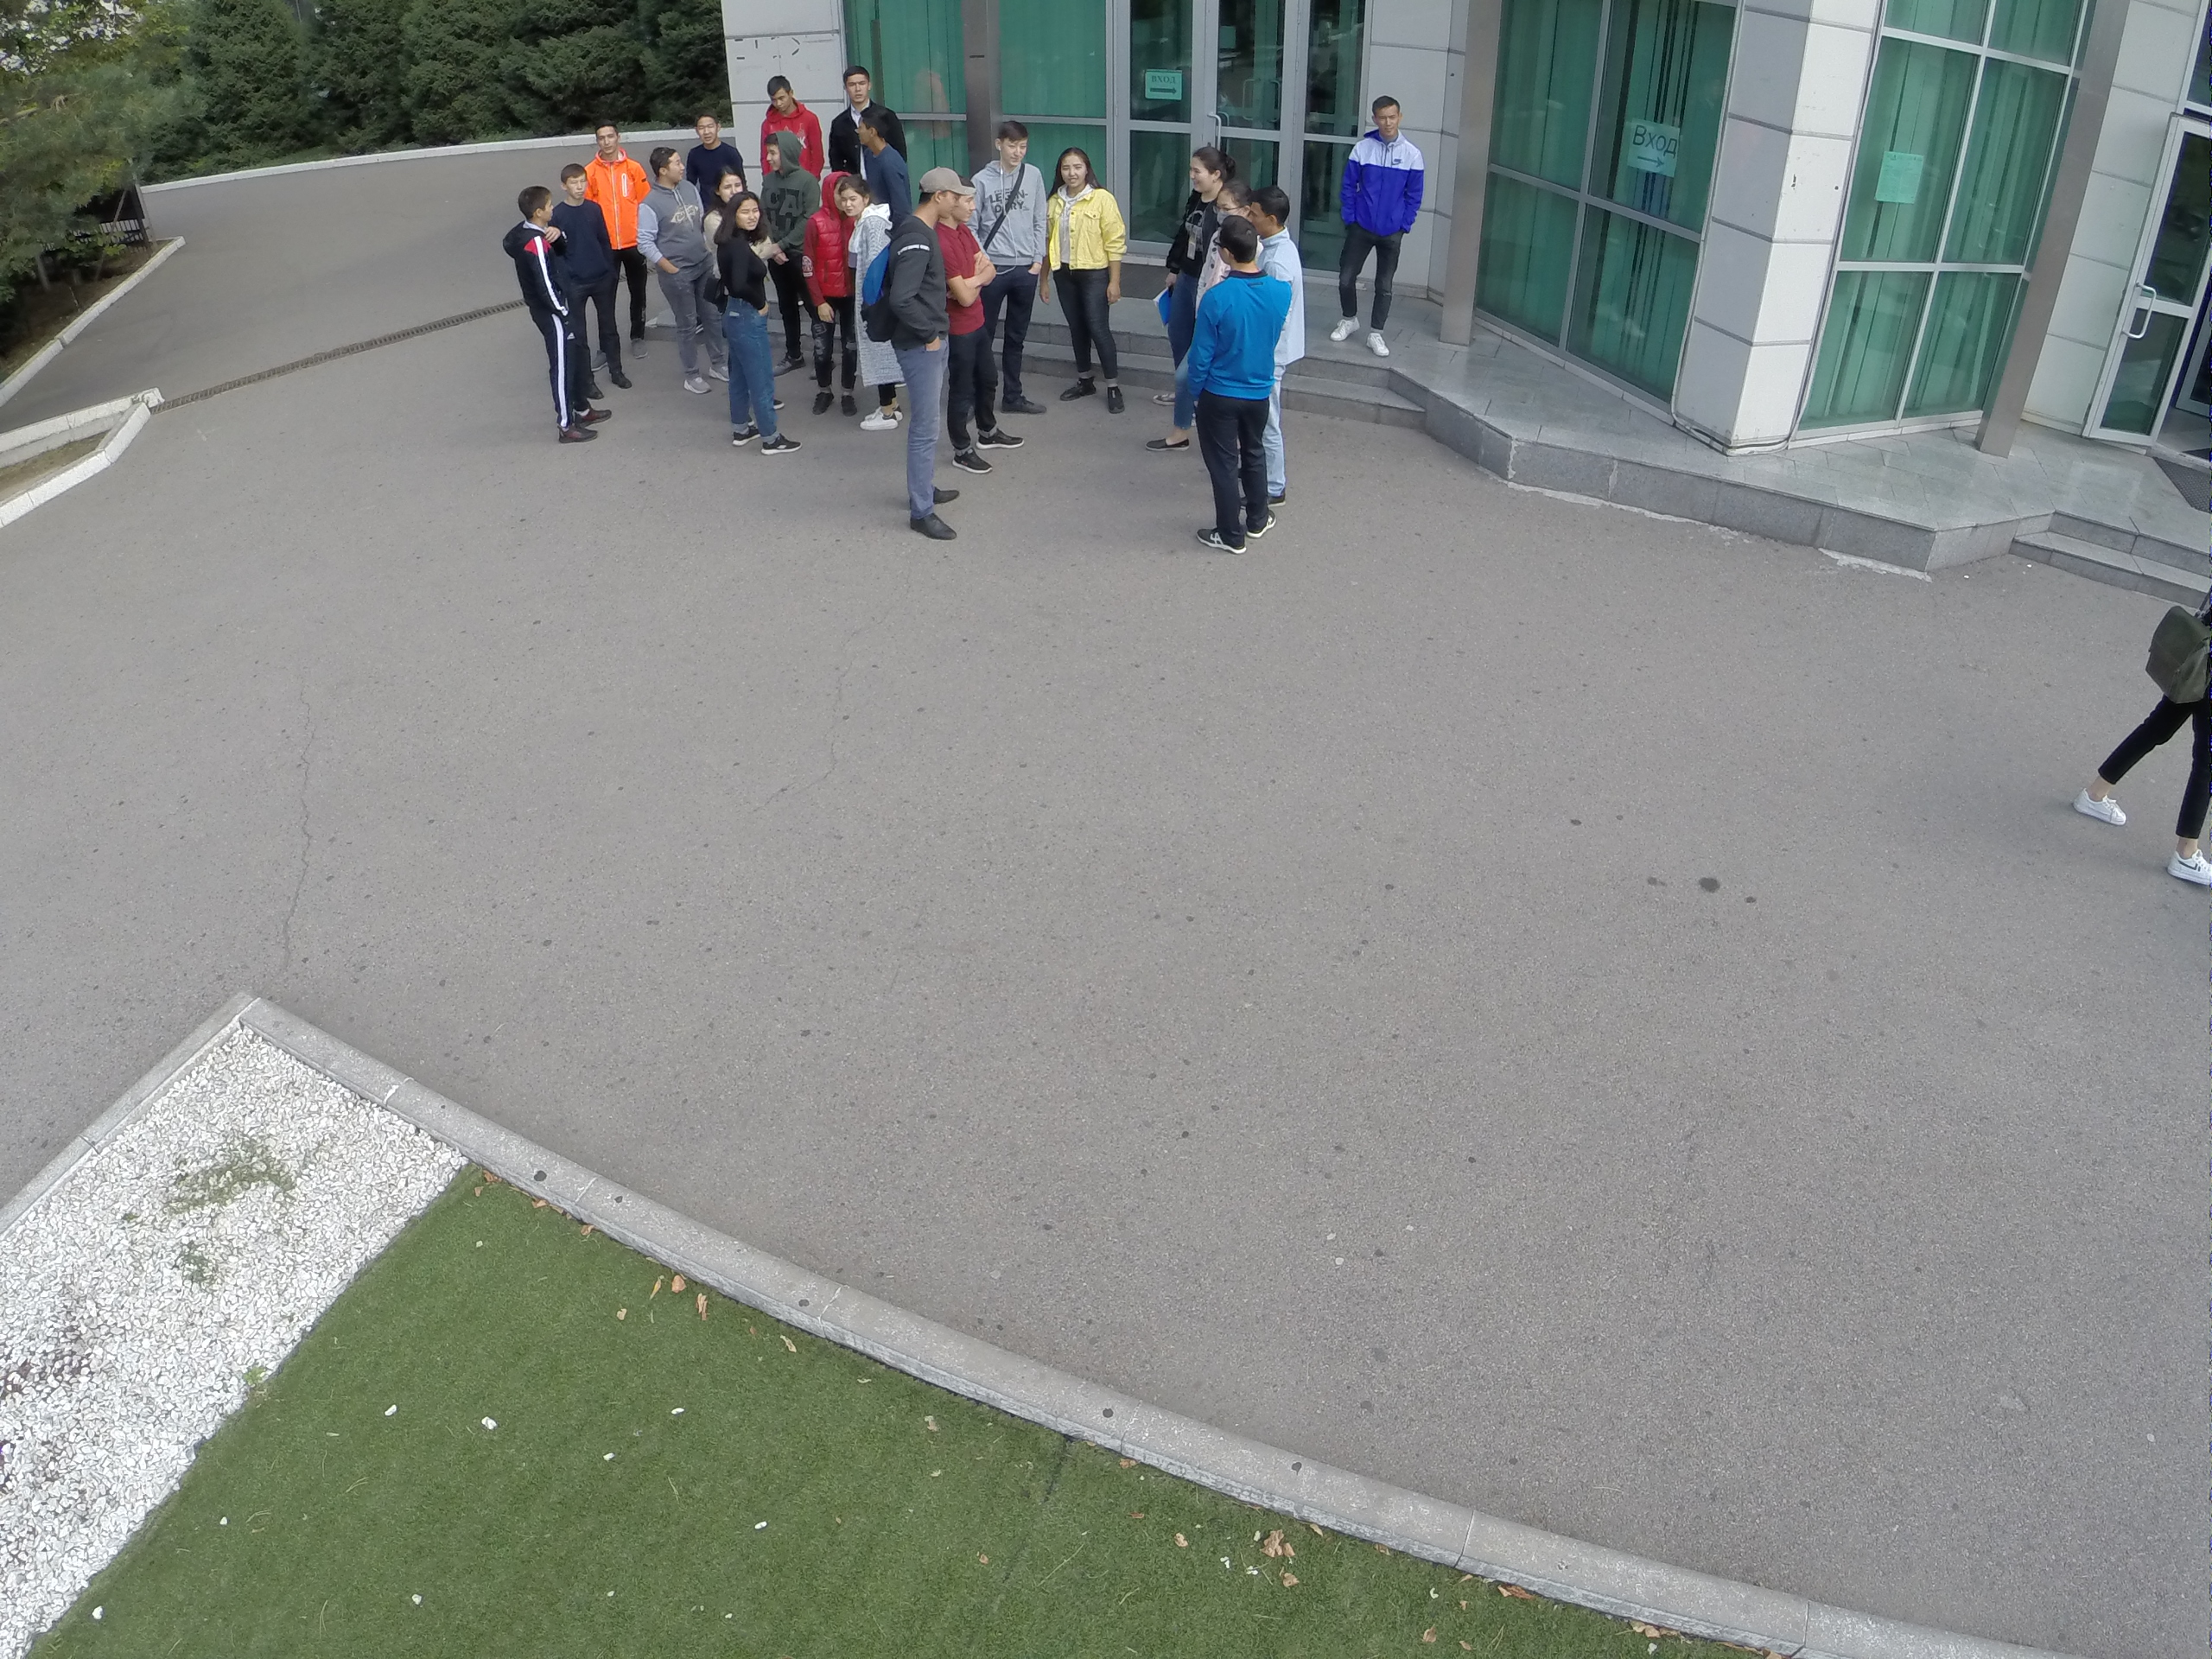person: (1183, 223, 1279, 556), (876, 165, 958, 549), (1329, 91, 1433, 364), (508, 195, 598, 445), (1048, 145, 1126, 419), (721, 198, 799, 455), (653, 149, 727, 404), (960, 174, 1020, 481), (988, 121, 1048, 412), (844, 181, 912, 436), (562, 162, 622, 385), (595, 117, 653, 342), (764, 127, 814, 374), (810, 177, 860, 414), (1245, 184, 1300, 276), (855, 122, 907, 210), (1179, 143, 1234, 222), (690, 112, 744, 177), (763, 75, 819, 133), (838, 67, 888, 117)
